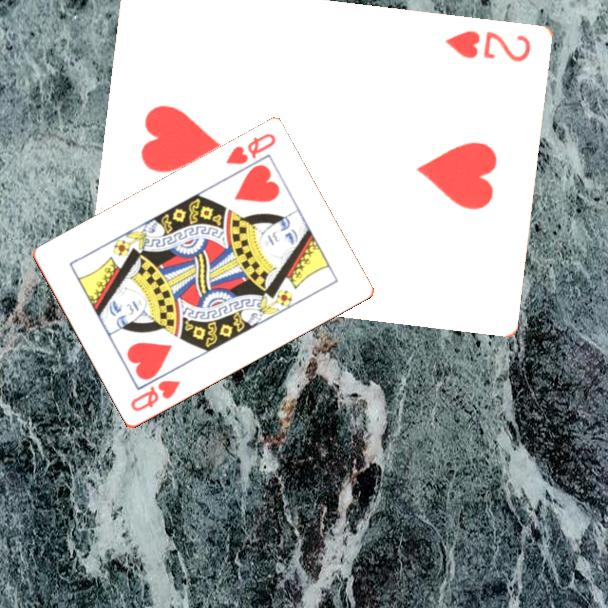h02: (441, 27, 533, 65)
h12: (127, 377, 184, 415), (222, 130, 279, 168)
